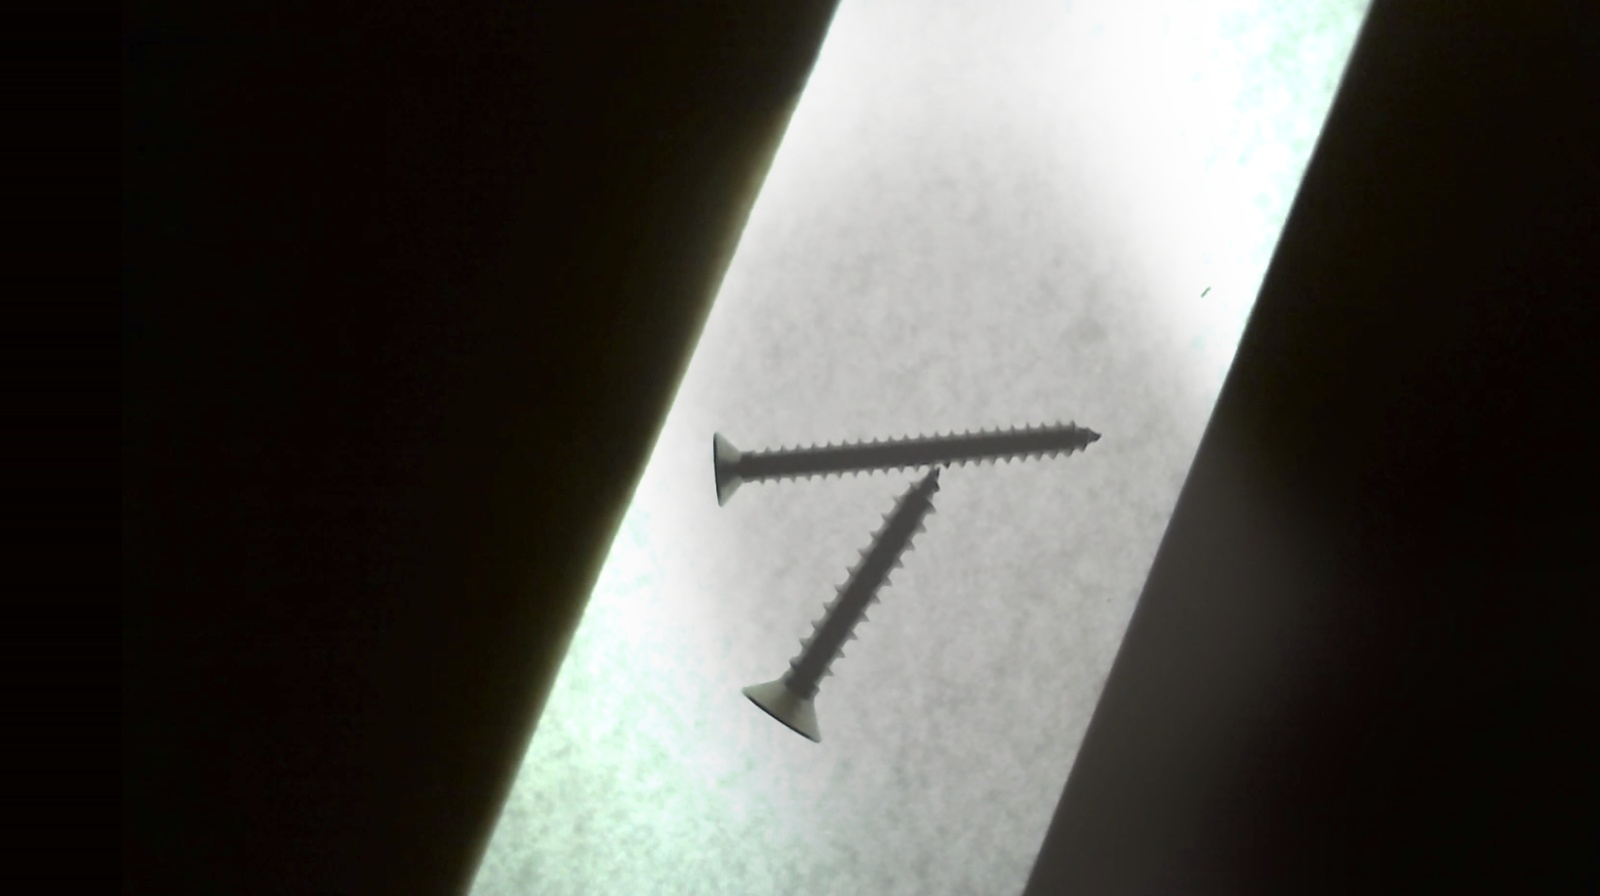S001: (738, 460, 947, 746)
S002: (703, 414, 1099, 509)
